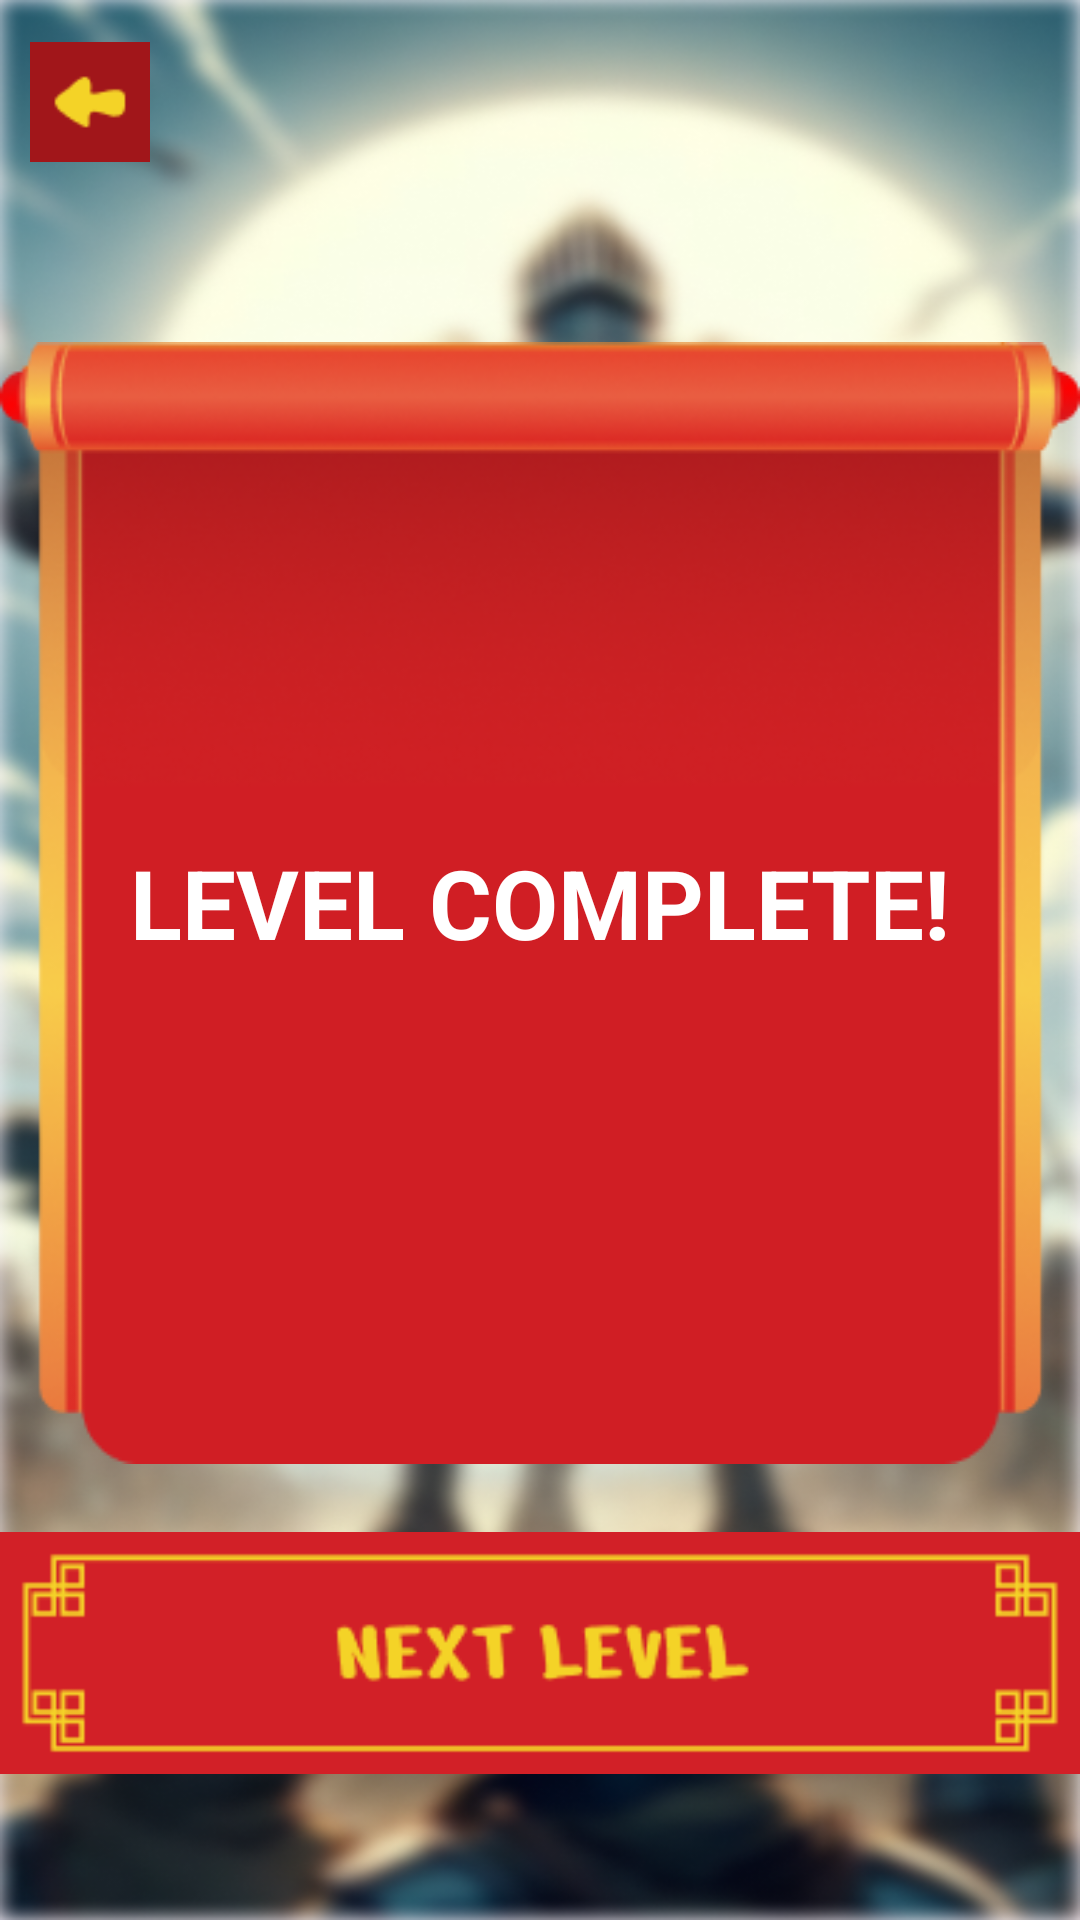

Locate icon controls on the screen. Image size 1080px×1920px, boxes as (x1, y1, x2, y2).
backbtn: (30, 30, 150, 174)
